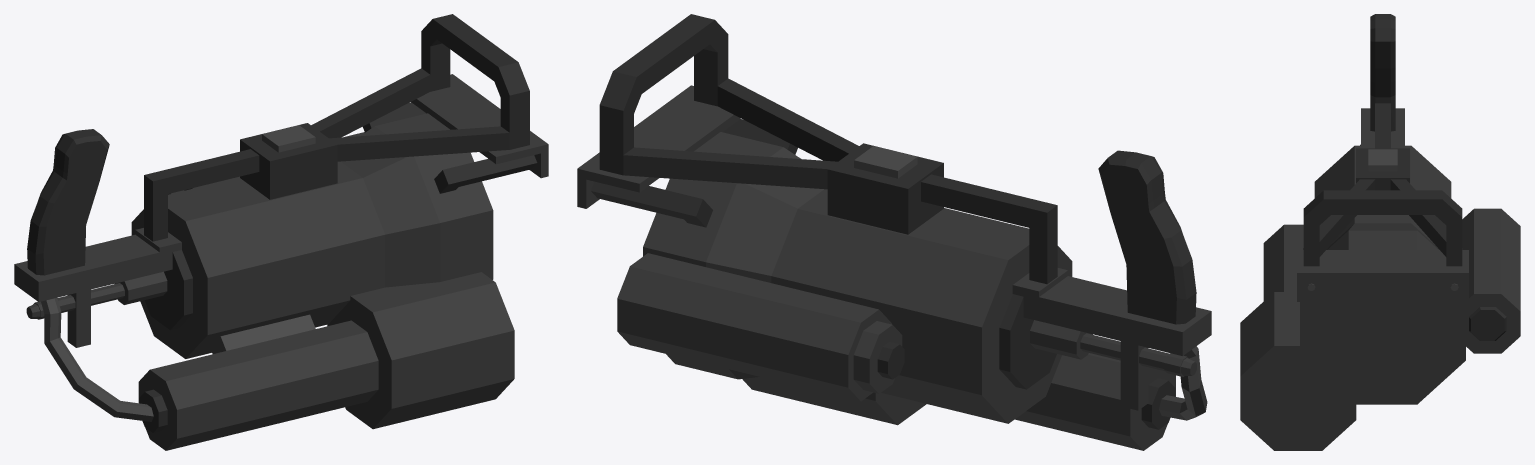
The model's file is LMG1_01.fbx.
3 views of the same model, side by side, from view 1: azimuth 30°, elevation 25°; view 2: azimuth 150°, elevation 25°; view 3: azimuth 270°, elevation 25° (orthographic). The views are drawn at different scales.
Parts seen in each view (by area): view 1: LMG1_01; view 2: LMG1_01; view 3: LMG1_01.
Part boxes in pixels (x1,y1,x2,y2): LMG1_01: (14,14,548,450); LMG1_01: (577,14,1211,450); LMG1_01: (1240,14,1520,450).
Size of the model in its own units: 0.6461 by 0.3998 by 0.3673.
